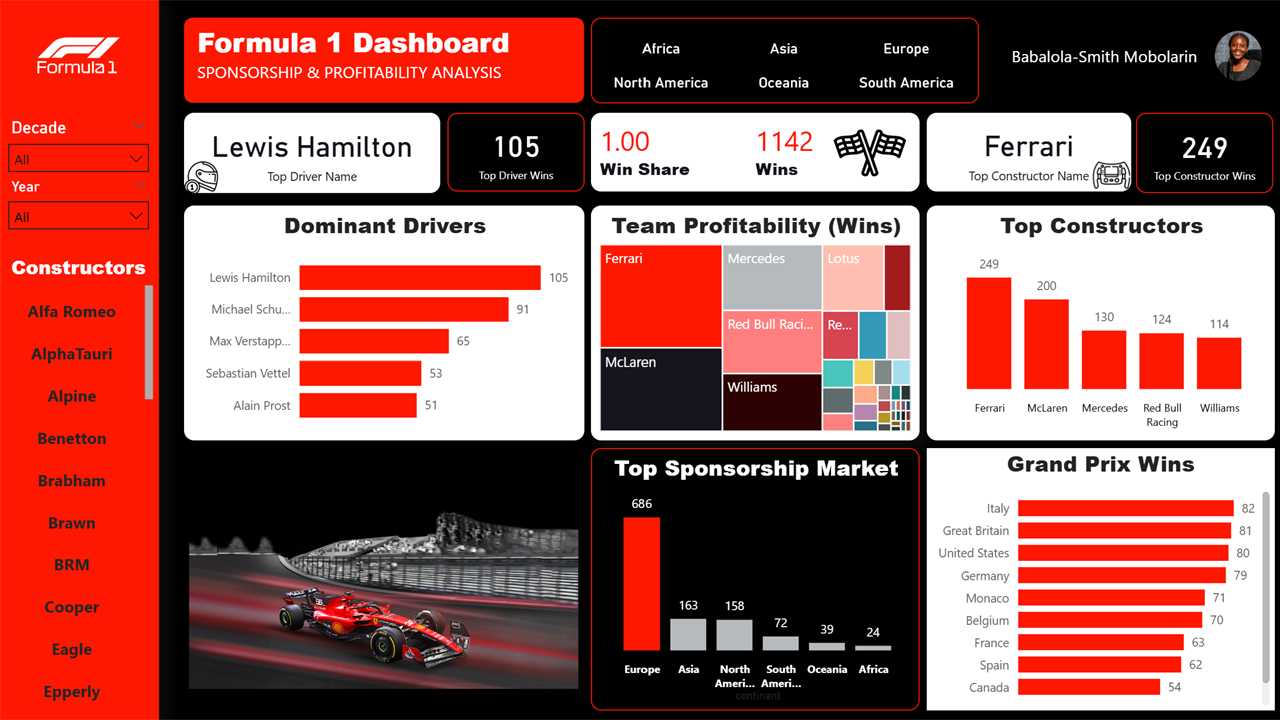

This screenshot's page, from the dashboard's own definition file:
{"tool":"powerbi","page":{"name":"Sponsors - Visibility & ROI","canvas":[1280,720],"ordinal":4},"visuals":[{"type":"shape","box":[0,0,160,720],"z":0},{"type":"shape","box":[185,20,398.3,85],"z":1000},{"type":"textbox","box":[193.3,20,390,85],"z":2000},{"type":"image","box":[0,0,160,115],"z":3000},{"type":"advancedSlicerVisual","title":"Constructors","fields":{"Values":["Races.constructors"]},"box":[1.2,261.1,159.2,458.9],"z":4000},{"type":"slicer","fields":{"Values":["Races.year"]},"box":[0,175,160,63.3],"z":5000},{"type":"treemap","title":"Team Profitability (Wins)","fields":{"Group":["Races.constructors"],"Values":["All Measures.Win Share"]},"box":[590,206.7,326.7,233.3],"z":6000},{"type":"textbox","box":[202,124,158,32],"z":7000},{"type":"textbox","box":[1003.3,41.7,208.3,65],"z":8000},{"type":"image","box":[1200,28.3,68.3,60],"z":9000},{"type":"card","fields":{"Values":["All Measures.Top Driver Name"]},"box":[185,115,255,80],"z":10000},{"type":"card","fields":{"Values":["All Measures.Top Driver Wins"]},"box":[446.7,115,136.7,78.3],"z":11000},{"type":"card","fields":{"Values":["All Measures.Top Constructor Name"]},"box":[923.3,115,203.3,78.3],"z":12000},{"type":"card","fields":{"Values":["All Measures.Top Constructor Wins"]},"box":[1131.7,115,136.7,80],"z":13000},{"type":"clusteredBarChart","title":"Dominant Drivers","fields":{"Category":["Races.winner_name"],"Y":["All Measures.Wins"]},"box":[185,206.7,398.3,233.3],"z":14000},{"type":"columnChart","title":"Top Constructors","fields":{"Category":["Races.constructors"],"Y":["All Measures.Wins"]},"box":[923.3,206.7,346.7,233.3],"z":15000},{"type":"multiRowCard","fields":{"Values":["All Measures.Win Share","All Measures.Wins"]},"box":[590,114.7,326.6,78.4],"z":16000},{"type":"columnChart","title":"Top Sponsorship Market","fields":{"Category":["Races.continent"],"Y":["All Measures.Wins by Continent"]},"box":[590,448.3,326.7,261.7],"z":17000},{"type":"clusteredBarChart","title":"Grand Prix Wins","fields":{"Category":["Races.grand_prix"],"Y":["All Measures.Wins"]},"box":[923.3,448.3,346.7,261.7],"z":18000},{"type":"image","box":[180,151.7,43.3,55],"z":19000},{"type":"image","box":[811.7,106.7,111.7,96.7],"z":20000},{"type":"image","box":[1084.6,151.5,46.9,52.3],"z":21000},{"type":"advancedSlicerVisual","fields":{"Values":["Races.continent"]},"box":[590,20,385.5,85.5],"z":22000},{"type":"slicer","fields":{"Values":["Races.decade"]},"box":[0,115,160,78.3],"z":23000},{"type":"image","box":[185.4,448.8,397.6,262.2],"z":24000}]}

Visuals, with their boxes on the page's 1280x720 design canvas (x1, y1, x2, y2). These are canvas units, not pixel positions in the 1280x720 screenshot, which may show the page scaled, cropped or inside an application window:
shape: [left=0, top=0, right=160, bottom=720]
shape: [left=185, top=20, right=583, bottom=105]
textbox: [left=193, top=20, right=583, bottom=105]
image: [left=0, top=0, right=160, bottom=115]
"Constructors" advancedSlicerVisual: [left=1, top=261, right=160, bottom=720]
slicer - Races.year: [left=0, top=175, right=160, bottom=238]
"Team Profitability (Wins)" treemap: [left=590, top=207, right=917, bottom=440]
textbox: [left=202, top=124, right=360, bottom=156]
textbox: [left=1003, top=42, right=1212, bottom=107]
image: [left=1200, top=28, right=1268, bottom=88]
card - All Measures.Top Driver Name: [left=185, top=115, right=440, bottom=195]
card - All Measures.Top Driver Wins: [left=447, top=115, right=583, bottom=193]
card - All Measures.Top Constructor Name: [left=923, top=115, right=1127, bottom=193]
card - All Measures.Top Constructor Wins: [left=1132, top=115, right=1268, bottom=195]
"Dominant Drivers" clusteredBarChart: [left=185, top=207, right=583, bottom=440]
"Top Constructors" columnChart: [left=923, top=207, right=1270, bottom=440]
multiRowCard - All Measures.Win Share x All Measures.Wins: [left=590, top=115, right=917, bottom=193]
"Top Sponsorship Market" columnChart: [left=590, top=448, right=917, bottom=710]
"Grand Prix Wins" clusteredBarChart: [left=923, top=448, right=1270, bottom=710]
image: [left=180, top=152, right=223, bottom=207]
image: [left=812, top=107, right=923, bottom=203]
image: [left=1085, top=152, right=1132, bottom=204]
advancedSlicerVisual - Races.continent: [left=590, top=20, right=976, bottom=106]
slicer - Races.decade: [left=0, top=115, right=160, bottom=193]
image: [left=185, top=449, right=583, bottom=711]
